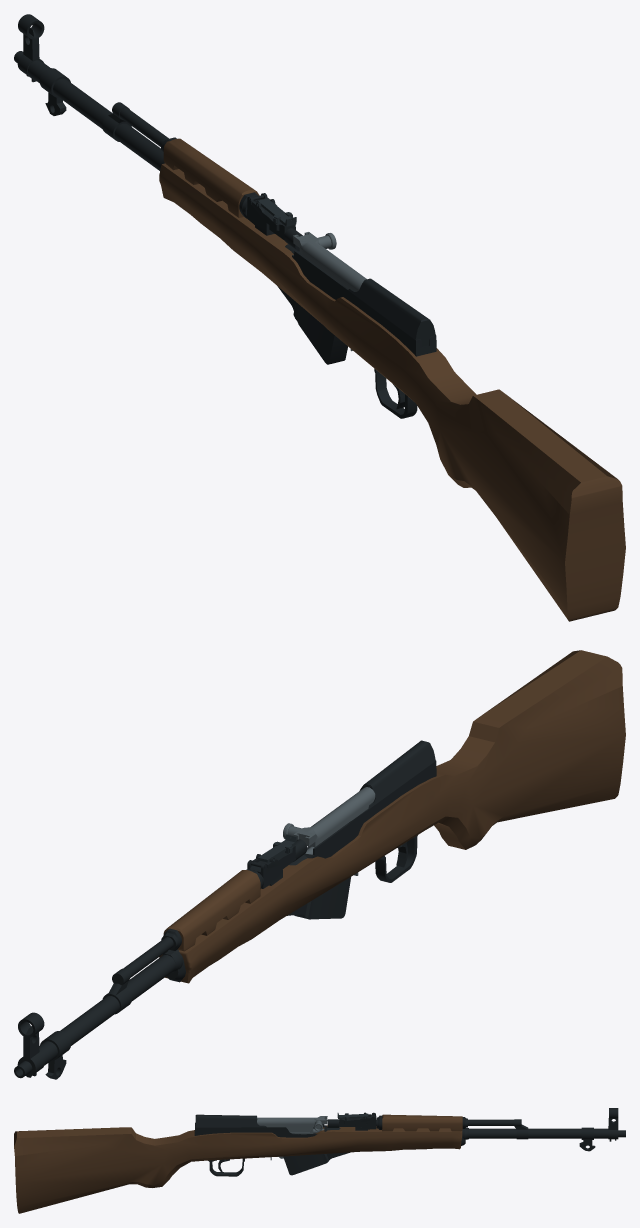
The model's file is dmr_sks.glb.
The picture shows the model from 3 angles, top to bottom: view 1: azimuth 30°, elevation 25°; view 2: azimuth 150°, elevation 25°; view 3: azimuth 270°, elevation 25°; orthographic projection. The views are drawn at different scales.
Visible parts, largest first — view 1: body; view 2: body; view 3: body.
Boxes of the visible parts, x1=… form: body: x1=14, y1=14, x2=625, y2=621; body: x1=14, y1=650, x2=625, y2=1079; body: x1=14, y1=1108, x2=625, y2=1213.
Size of the model in its own units: 0.0622 by 0.1828 by 1.02.
